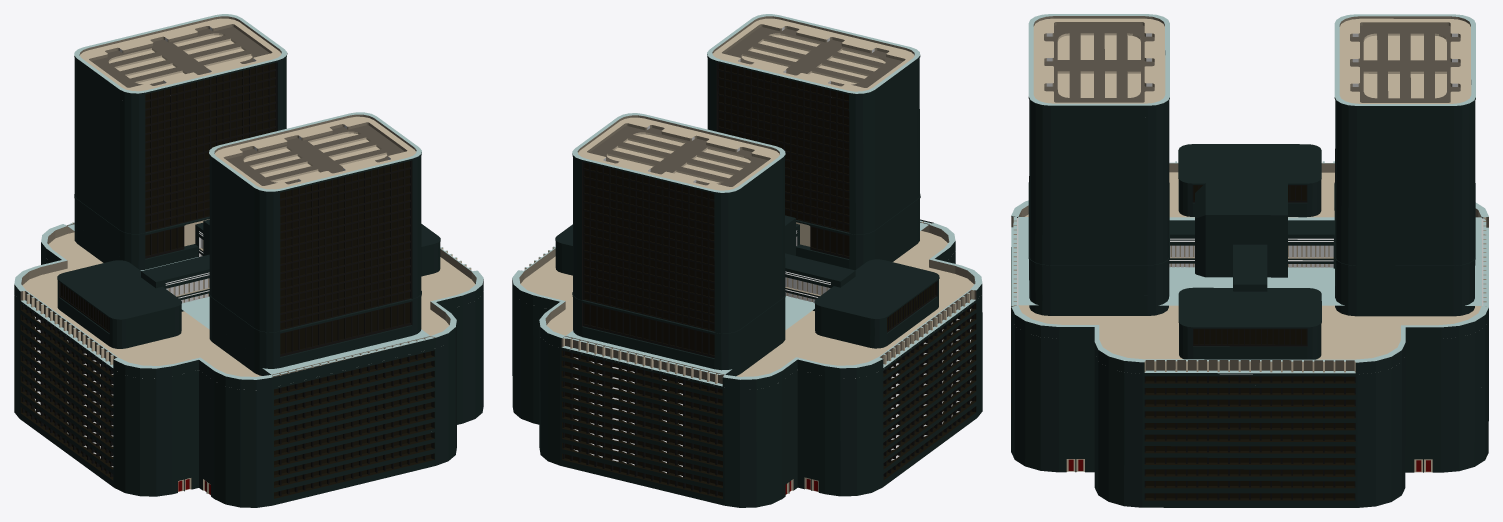
Rendered from Building5.obj.
3 views of the same model, side by side, from view 1: azimuth 30°, elevation 25°; view 2: azimuth 150°, elevation 25°; view 3: azimuth 270°, elevation 25° (orthographic). The views are drawn at different scales.
Parts seen in each view (by area): view 1: object12, object1, object276, object8, object143, object244, object11, object49, object53, object33, object17, object37 (+134 smaller); view 2: object12, object1, object276, object244, object143, object49, object25, object21, object53, object41, object17, object37 (+135 smaller); view 3: object12, Cube_7284, object11, object1, object268, object276, object143, object244, object21, object25, object49, object154 (+75 smaller).
Part boxes in pixels (left/top/right/bottom): object12: left=22, top=232, right=475, bottom=376; object1: left=14, top=392, right=483, bottom=507; object276: left=57, top=260, right=181, bottom=336; object8: left=14, top=242, right=483, bottom=389; object143: left=226, top=125, right=404, bottom=185; object244: left=91, top=27, right=269, bottom=87; object11: left=14, top=222, right=483, bottom=379; object49: left=14, top=252, right=483, bottom=400; object53: left=14, top=263, right=483, bottom=410; object33: left=14, top=351, right=483, bottom=461; object17: left=14, top=310, right=483, bottom=420; object37: left=14, top=361, right=483, bottom=472; object12: left=520, top=231, right=974, bottom=376; object1: left=512, top=392, right=982, bottom=507; object276: left=814, top=259, right=939, bottom=336; object244: left=589, top=126, right=768, bottom=186; object143: left=724, top=27, right=902, bottom=87; object49: left=512, top=251, right=982, bottom=400; object25: left=512, top=329, right=982, bottom=441; object21: left=512, top=319, right=982, bottom=430; object53: left=512, top=261, right=982, bottom=410; object41: left=512, top=370, right=982, bottom=482; object17: left=512, top=309, right=982, bottom=420; object37: left=512, top=360, right=982, bottom=472; object12: left=1018, top=172, right=1481, bottom=359; Cube_7284: left=1195, top=183, right=1287, bottom=277; object11: left=1011, top=161, right=1488, bottom=362; object1: left=1011, top=435, right=1488, bottom=507; object268: left=1178, top=287, right=1321, bottom=346; object276: left=1178, top=144, right=1321, bottom=203; object143: left=1044, top=25, right=1154, bottom=102; object244: left=1350, top=25, right=1460, bottom=102; object21: left=1011, top=278, right=1488, bottom=420; object25: left=1011, top=302, right=1488, bottom=432; object49: left=1011, top=319, right=1488, bottom=385; object154: left=1028, top=182, right=1169, bottom=295.
Bounding box in the file's own units: 20.58 × 16.51 × 20.58.
